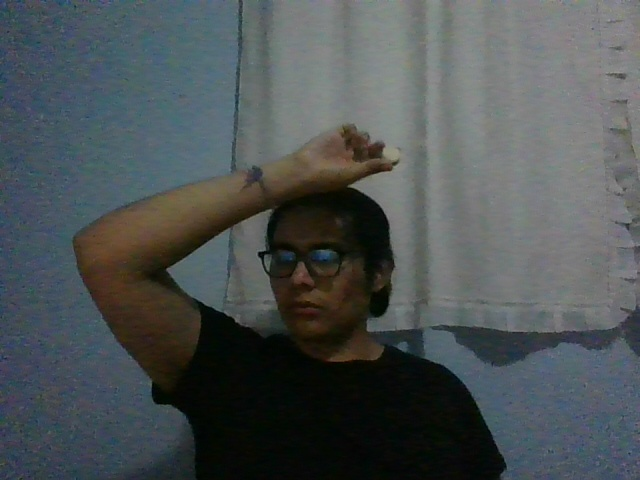goma: (382, 147, 400, 166)
